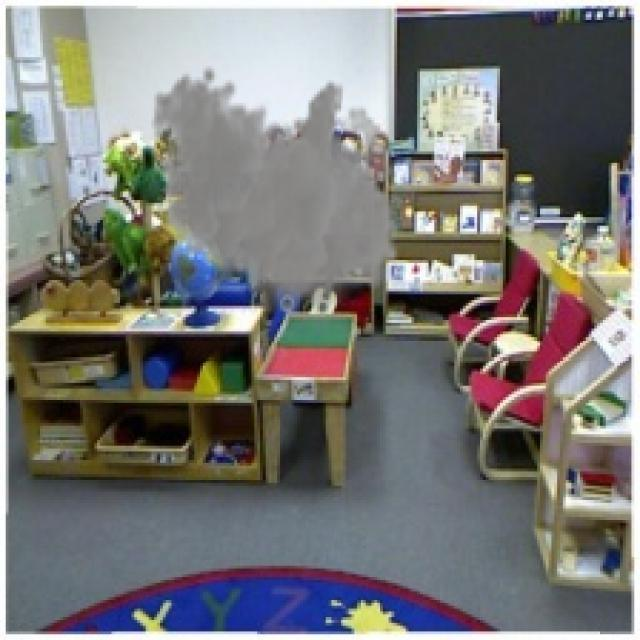Smoke: (151, 66, 400, 326)
